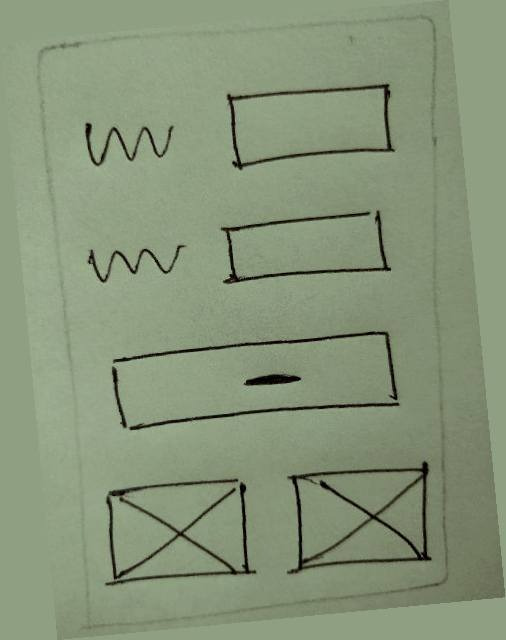button: (95, 318, 415, 448)
image: (94, 467, 262, 595), (278, 452, 439, 582)
text: (73, 104, 189, 177), (78, 228, 192, 297)
text_input: (216, 71, 403, 177), (211, 197, 401, 299)
